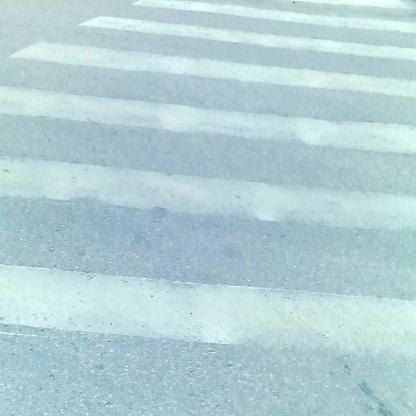crosswalk: (3, 10, 416, 410)
